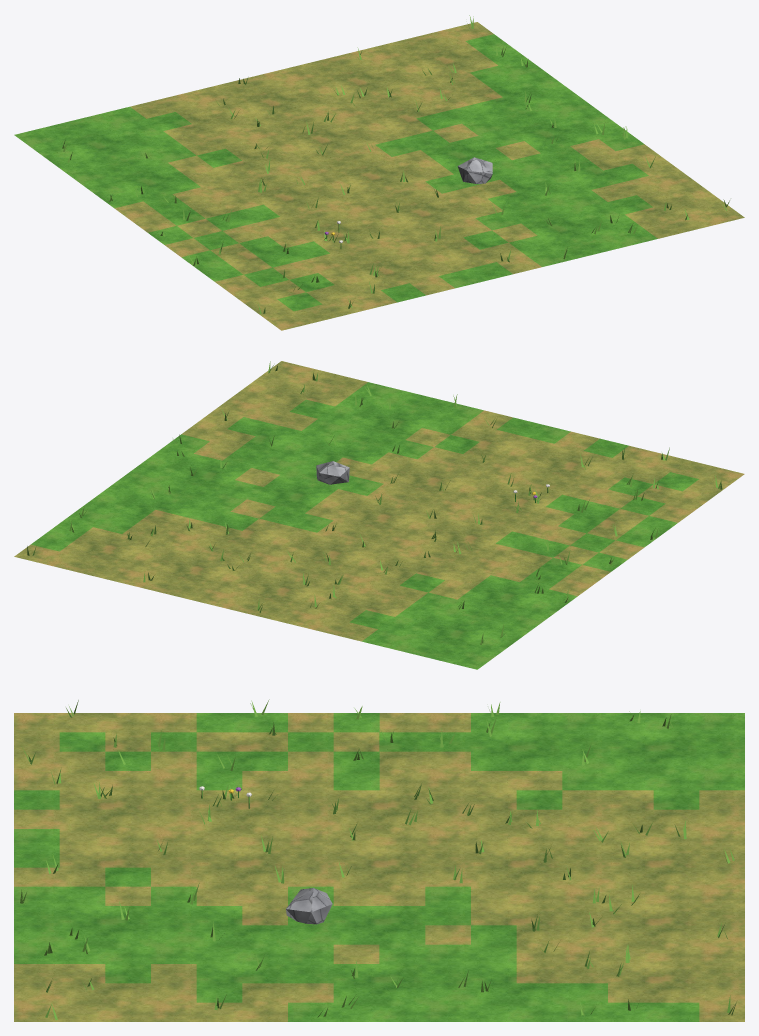
The model's file is chunk_9_4.glb.
3 views of the same model, one above another, from view 1: azimuth 30°, elevation 25°; view 2: azimuth 150°, elevation 25°; view 3: azimuth 270°, elevation 25° (orthographic). The views are drawn at different scales.
Visible parts, largest first — view 1: chunk_9_4; view 2: chunk_9_4; view 3: chunk_9_4.
Boxes of the visible parts, x1,y1,x2,y2 form: chunk_9_4: (14,15,744,330); chunk_9_4: (14,361,744,669); chunk_9_4: (14,699,744,1021).
Bounding box in the file's own units: 16.06 × 0.9397 × 16.
Materials: 8 (4 with a texture image).
